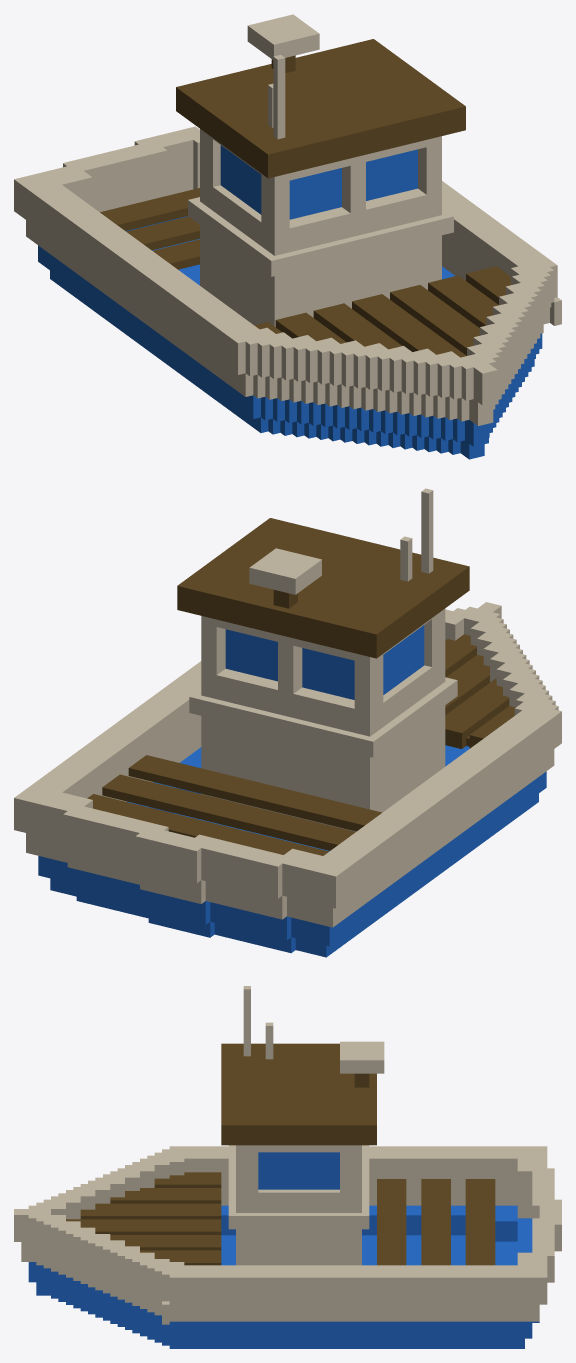
File: Background_C_boat_02.FBX
3 renders of one model, top to bottom at view 1: azimuth 30°, elevation 25°; view 2: azimuth 150°, elevation 25°; view 3: azimuth 270°, elevation 25°, orthographic. The views are drawn at different scales.
Parts seen in each view (by area): view 1: Background_C-16; view 2: Background_C-16; view 3: Background_C-16.
Boxes of the visible parts, <box> form: Background_C-16: <box>14,14,561,459</box>; Background_C-16: <box>14,488,561,957</box>; Background_C-16: <box>14,986,561,1348</box>.
Size of the model in its own units: 4.2 by 4.1 by 7.4.
Materials: 1 (1 with a texture image).
